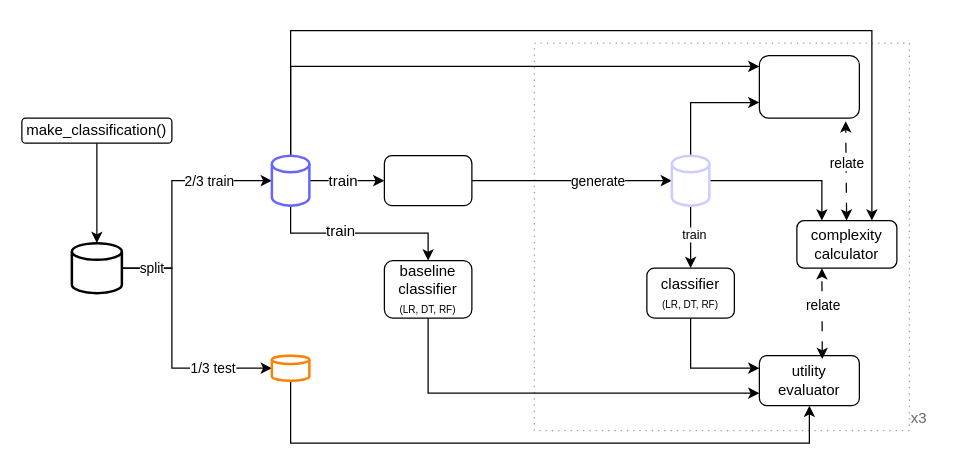
The diagram is 979 pixels wide and 475 high, and some of its shapes have lost their labels. The shapes that lost their labels are listed below. From the top down, each one's centre as x and y in pixels, then its label:
At (x=808, y=86): "quality & privacy evaluator".
At (x=427, y=180): "synthesizer (TVAE, CART)".
